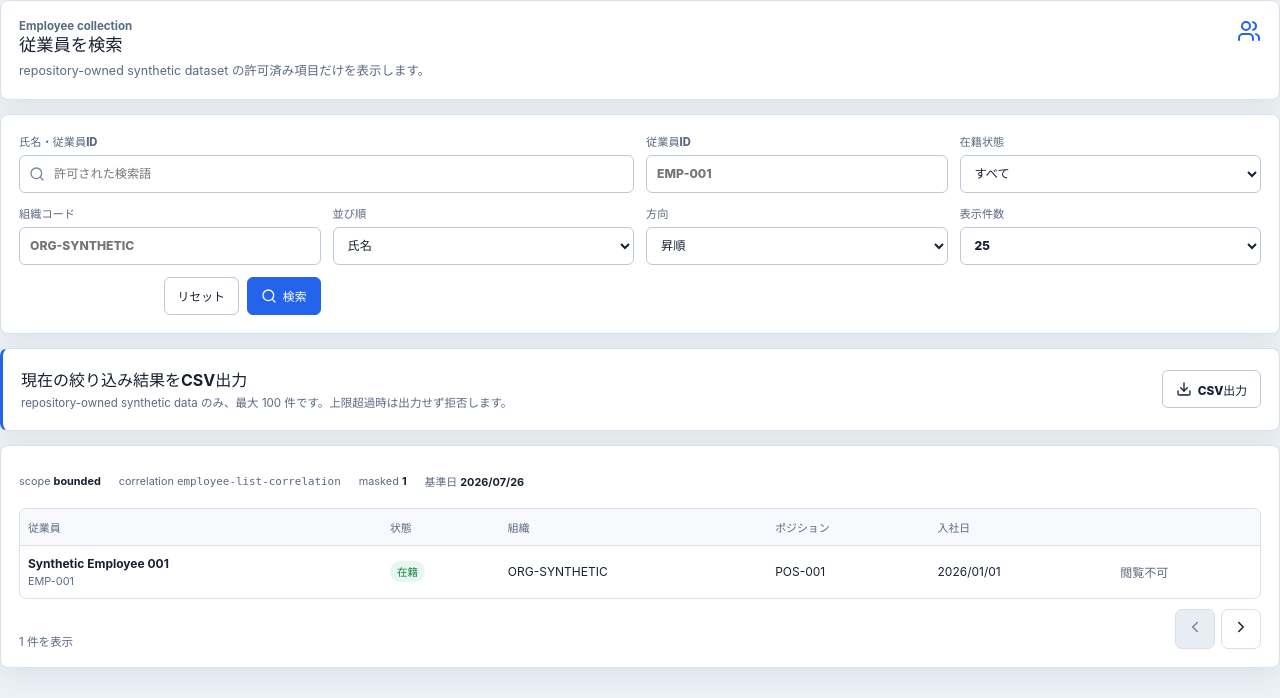
employee list screen › reuses export correlations for uncertain retries and rotates after a server conflict
Check: the text "Synthetic Employee 001" is shown, box [28, 556, 169, 571]
Click the button "CSV出力" at (1211, 389), box [1162, 370, 1261, 408]
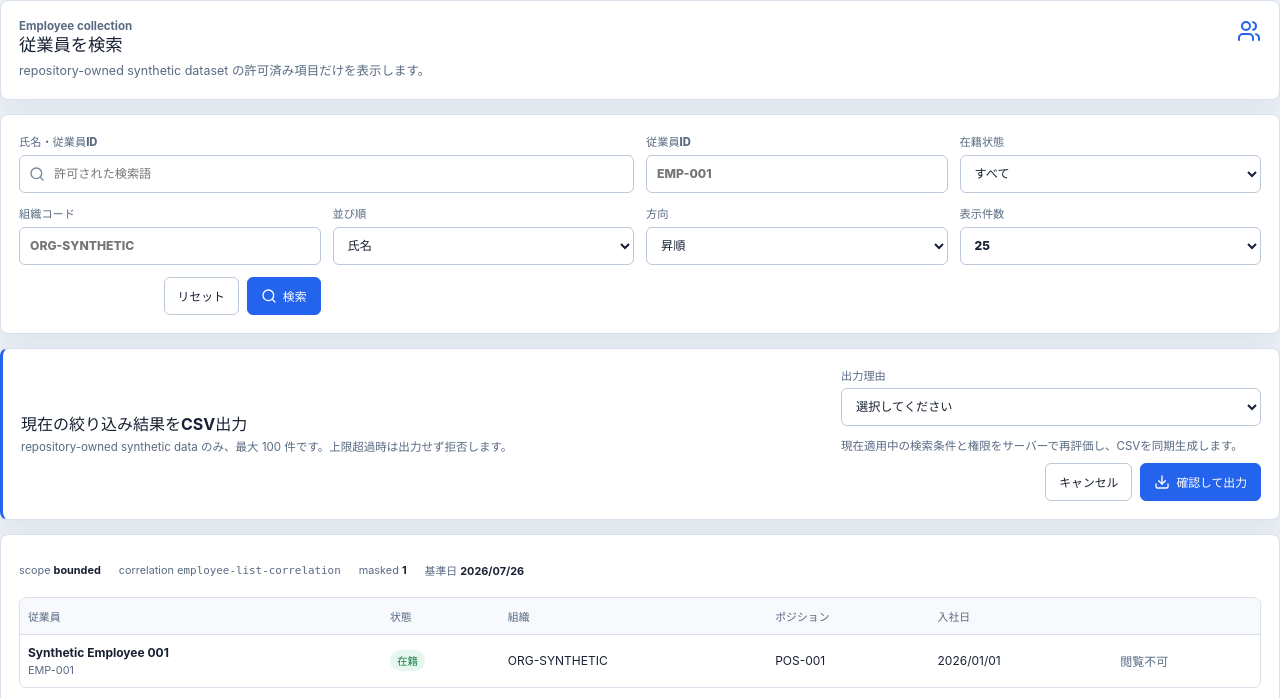
Select "業務照合" in the dropdown labelled "出力理由" at (1051, 407), box [841, 388, 1261, 426]
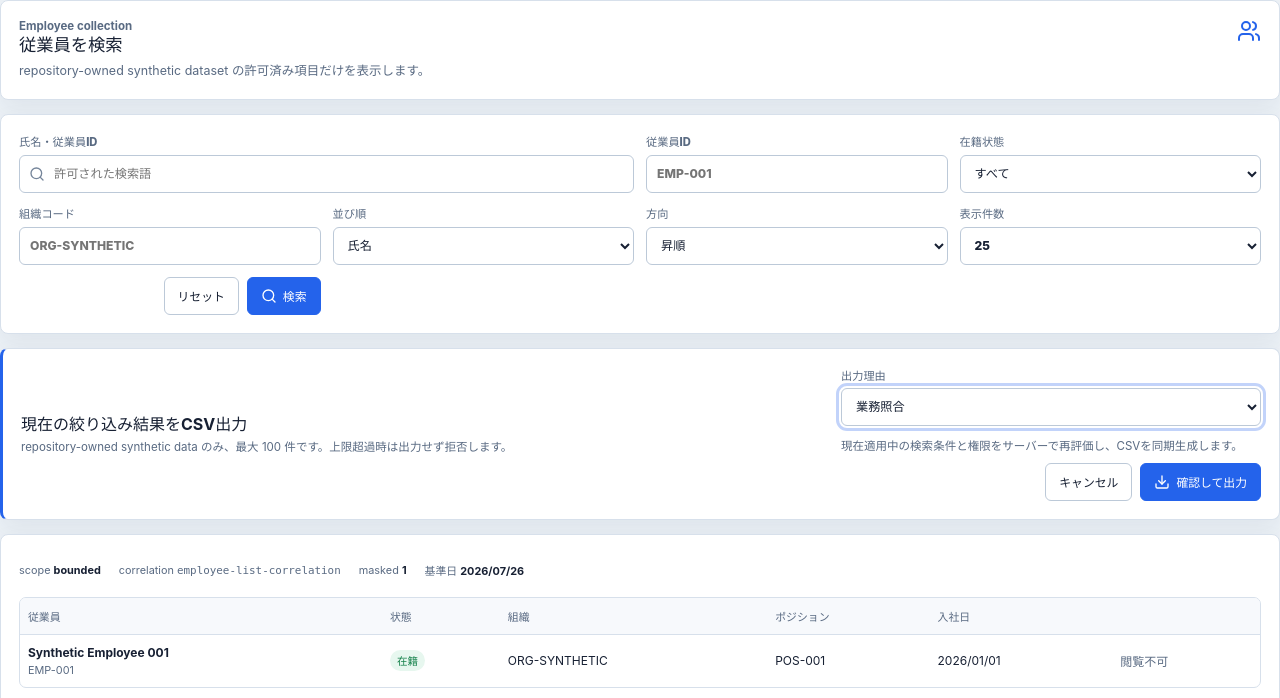
Click the button "確認して出力" at (1201, 482), box [1140, 463, 1261, 501]
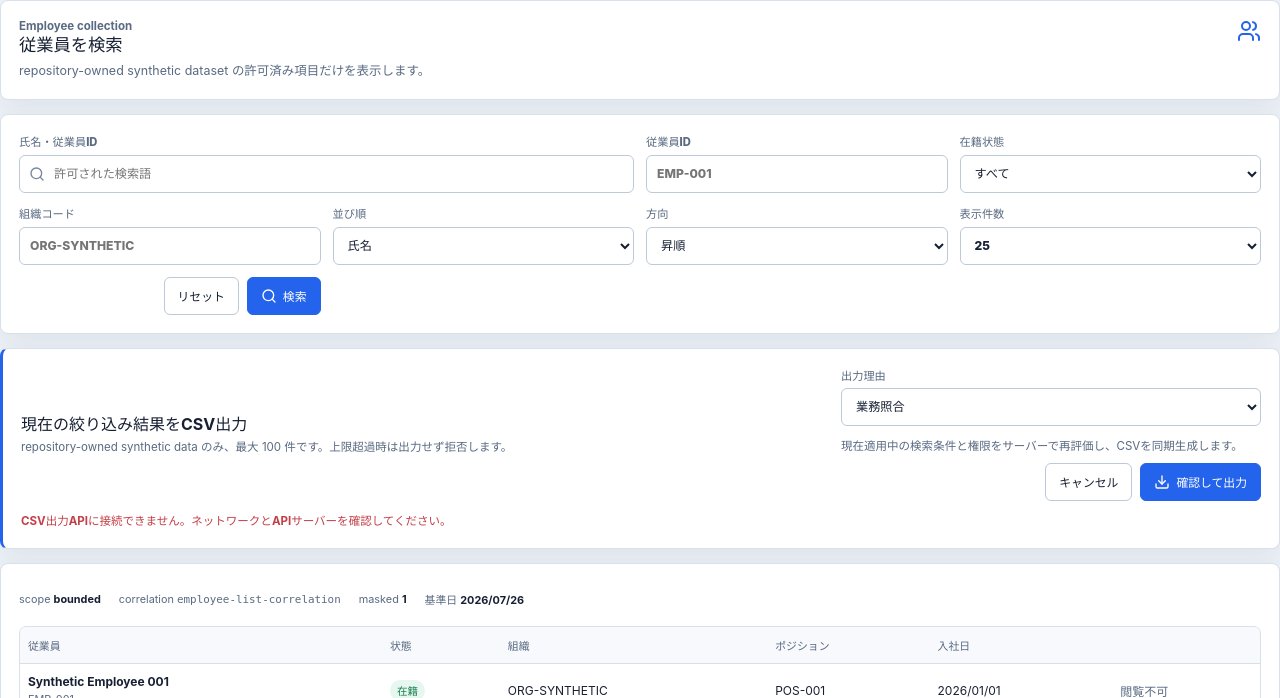
Check: the message "CSV出力APIに接続できません。ネットワークとAPIサーバーを確認してください。" is shown, box [21, 514, 452, 528]
Click the button "確認して出力" at (1201, 482), box [1140, 463, 1261, 501]
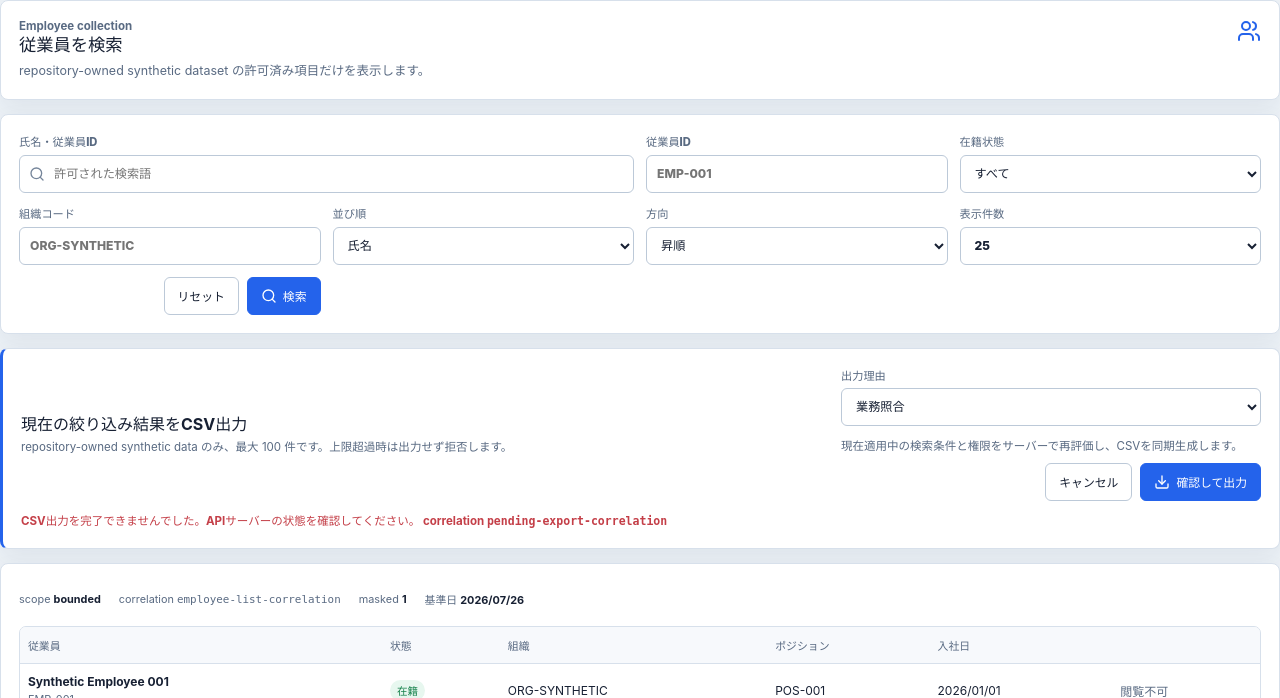
Check: the message "CSV出力を完了できませんでした。APIサーバーの状態を確認してください。 correlation pending-export-correlation" is shown, box [21, 514, 667, 528]
Click the button "確認して出力" at (1201, 482), box [1140, 463, 1261, 501]
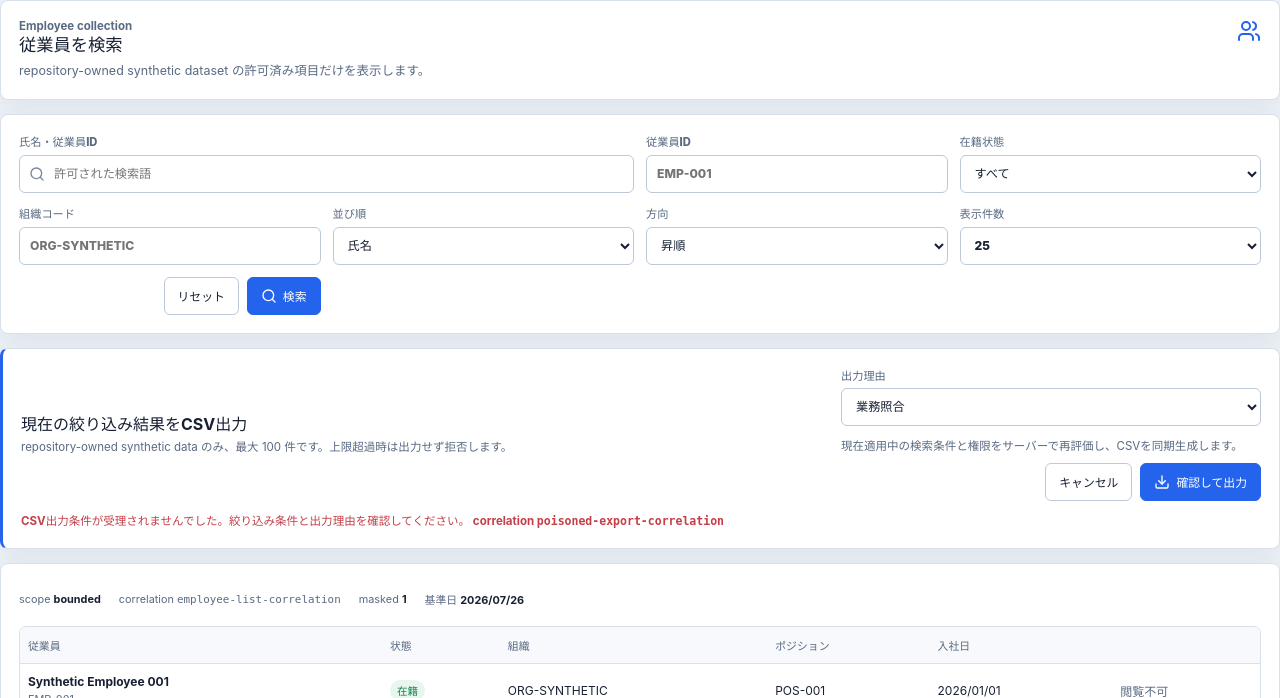
Check: the message that starts with "CSV出力条件が受理されませんでした。絞り込み条件と出力理由を確認してください。" is shown, box [21, 514, 470, 528]
Click the button "確認して出力" at (1201, 482), box [1140, 463, 1261, 501]
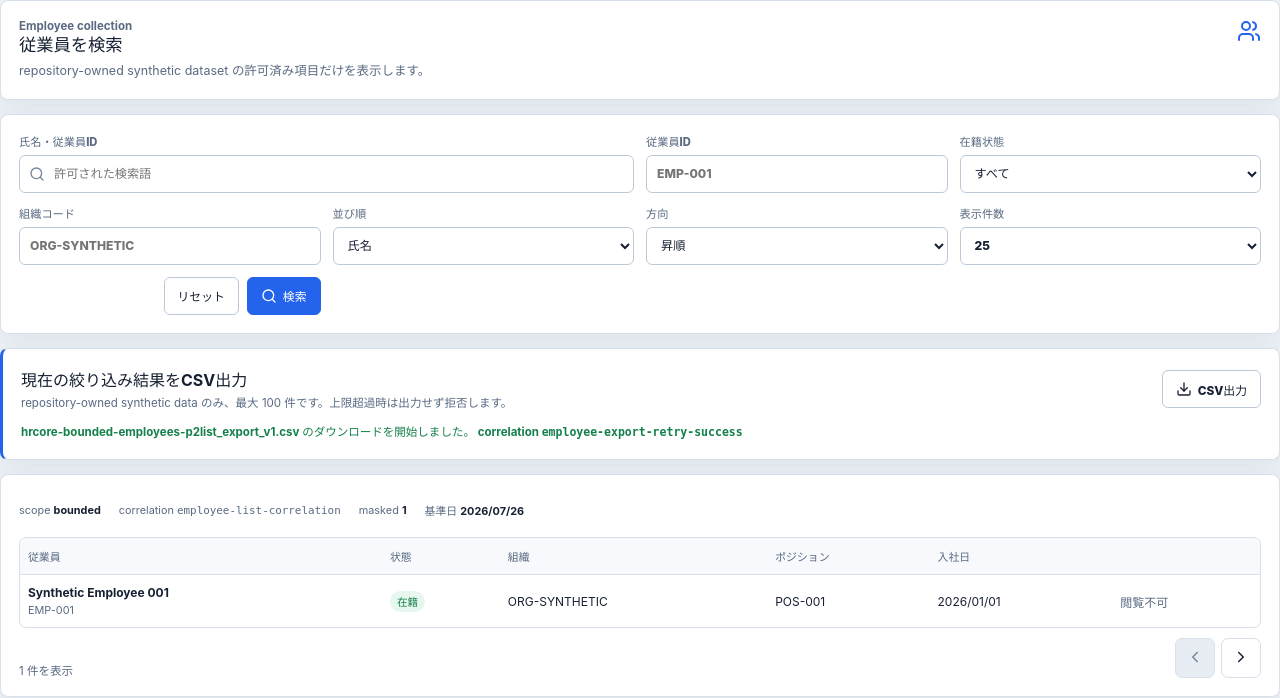
Check: the text "ダウンロードを開始しました" is shown, box [21, 425, 475, 439]
